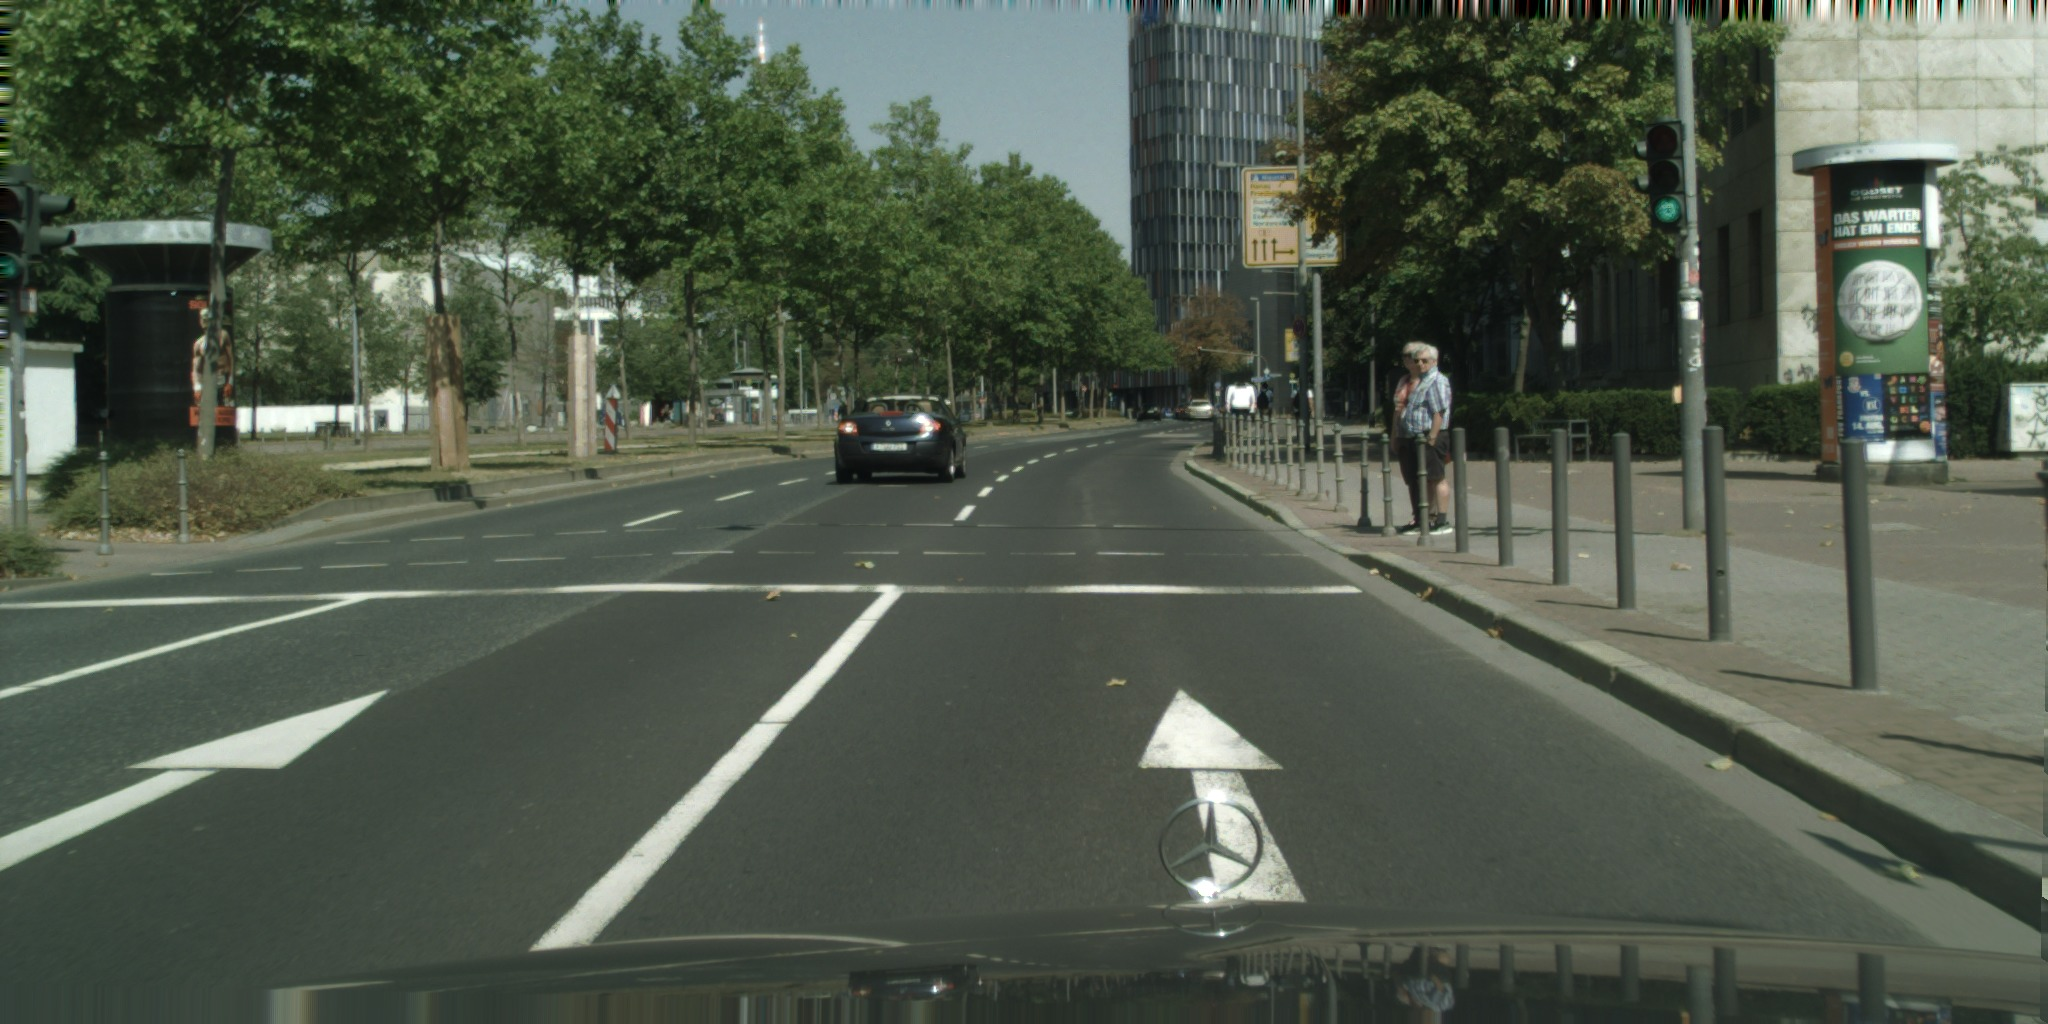car: (832, 393, 972, 485), (1226, 383, 1263, 424), (1184, 398, 1218, 419), (1136, 402, 1162, 422), (1173, 401, 1193, 419)
person: (1398, 343, 1461, 536), (1386, 340, 1430, 533), (1292, 388, 1312, 439), (1256, 381, 1273, 434), (658, 403, 673, 424)
